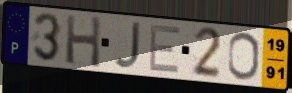2: (192, 26, 223, 80)
3: (28, 12, 65, 64)
E: (147, 23, 182, 75)
H: (64, 13, 102, 71)
J: (112, 21, 143, 71)
O: (226, 31, 261, 82)
